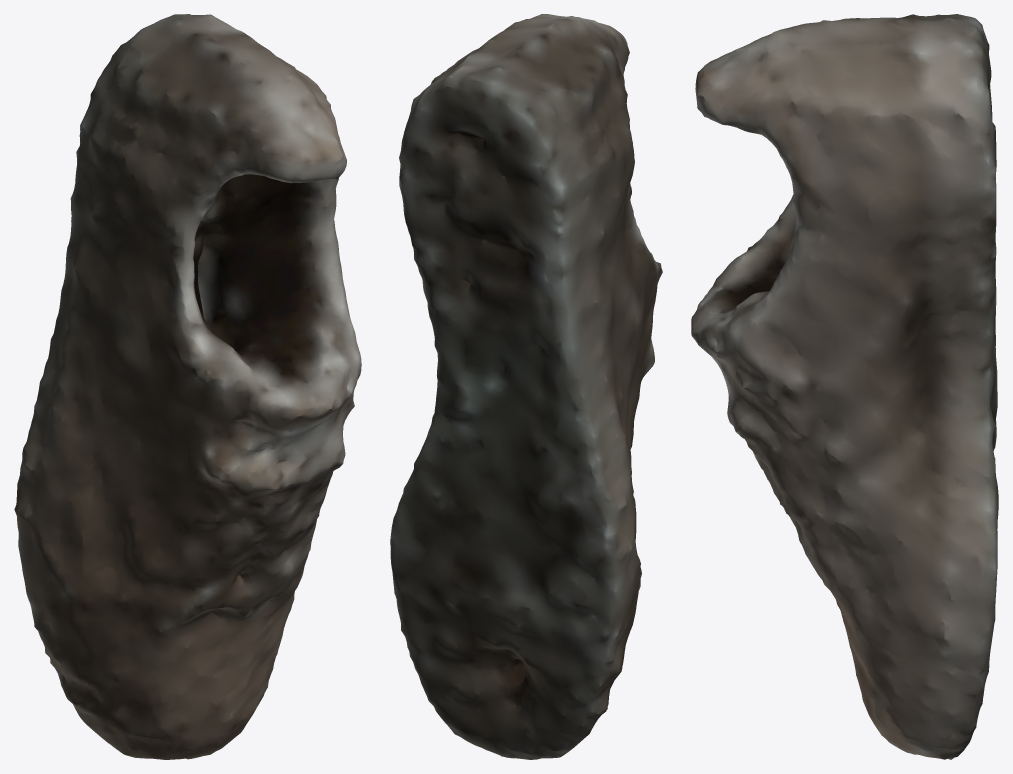
File: shoe3.glb
3 renders of one model, left to right at view 1: azimuth 30°, elevation 25°; view 2: azimuth 150°, elevation 25°; view 3: azimuth 270°, elevation 25°, orthographic. The views are drawn at different scales.
Size of the model in its own units: 0.3579 by 0.9943 by 0.3766.
